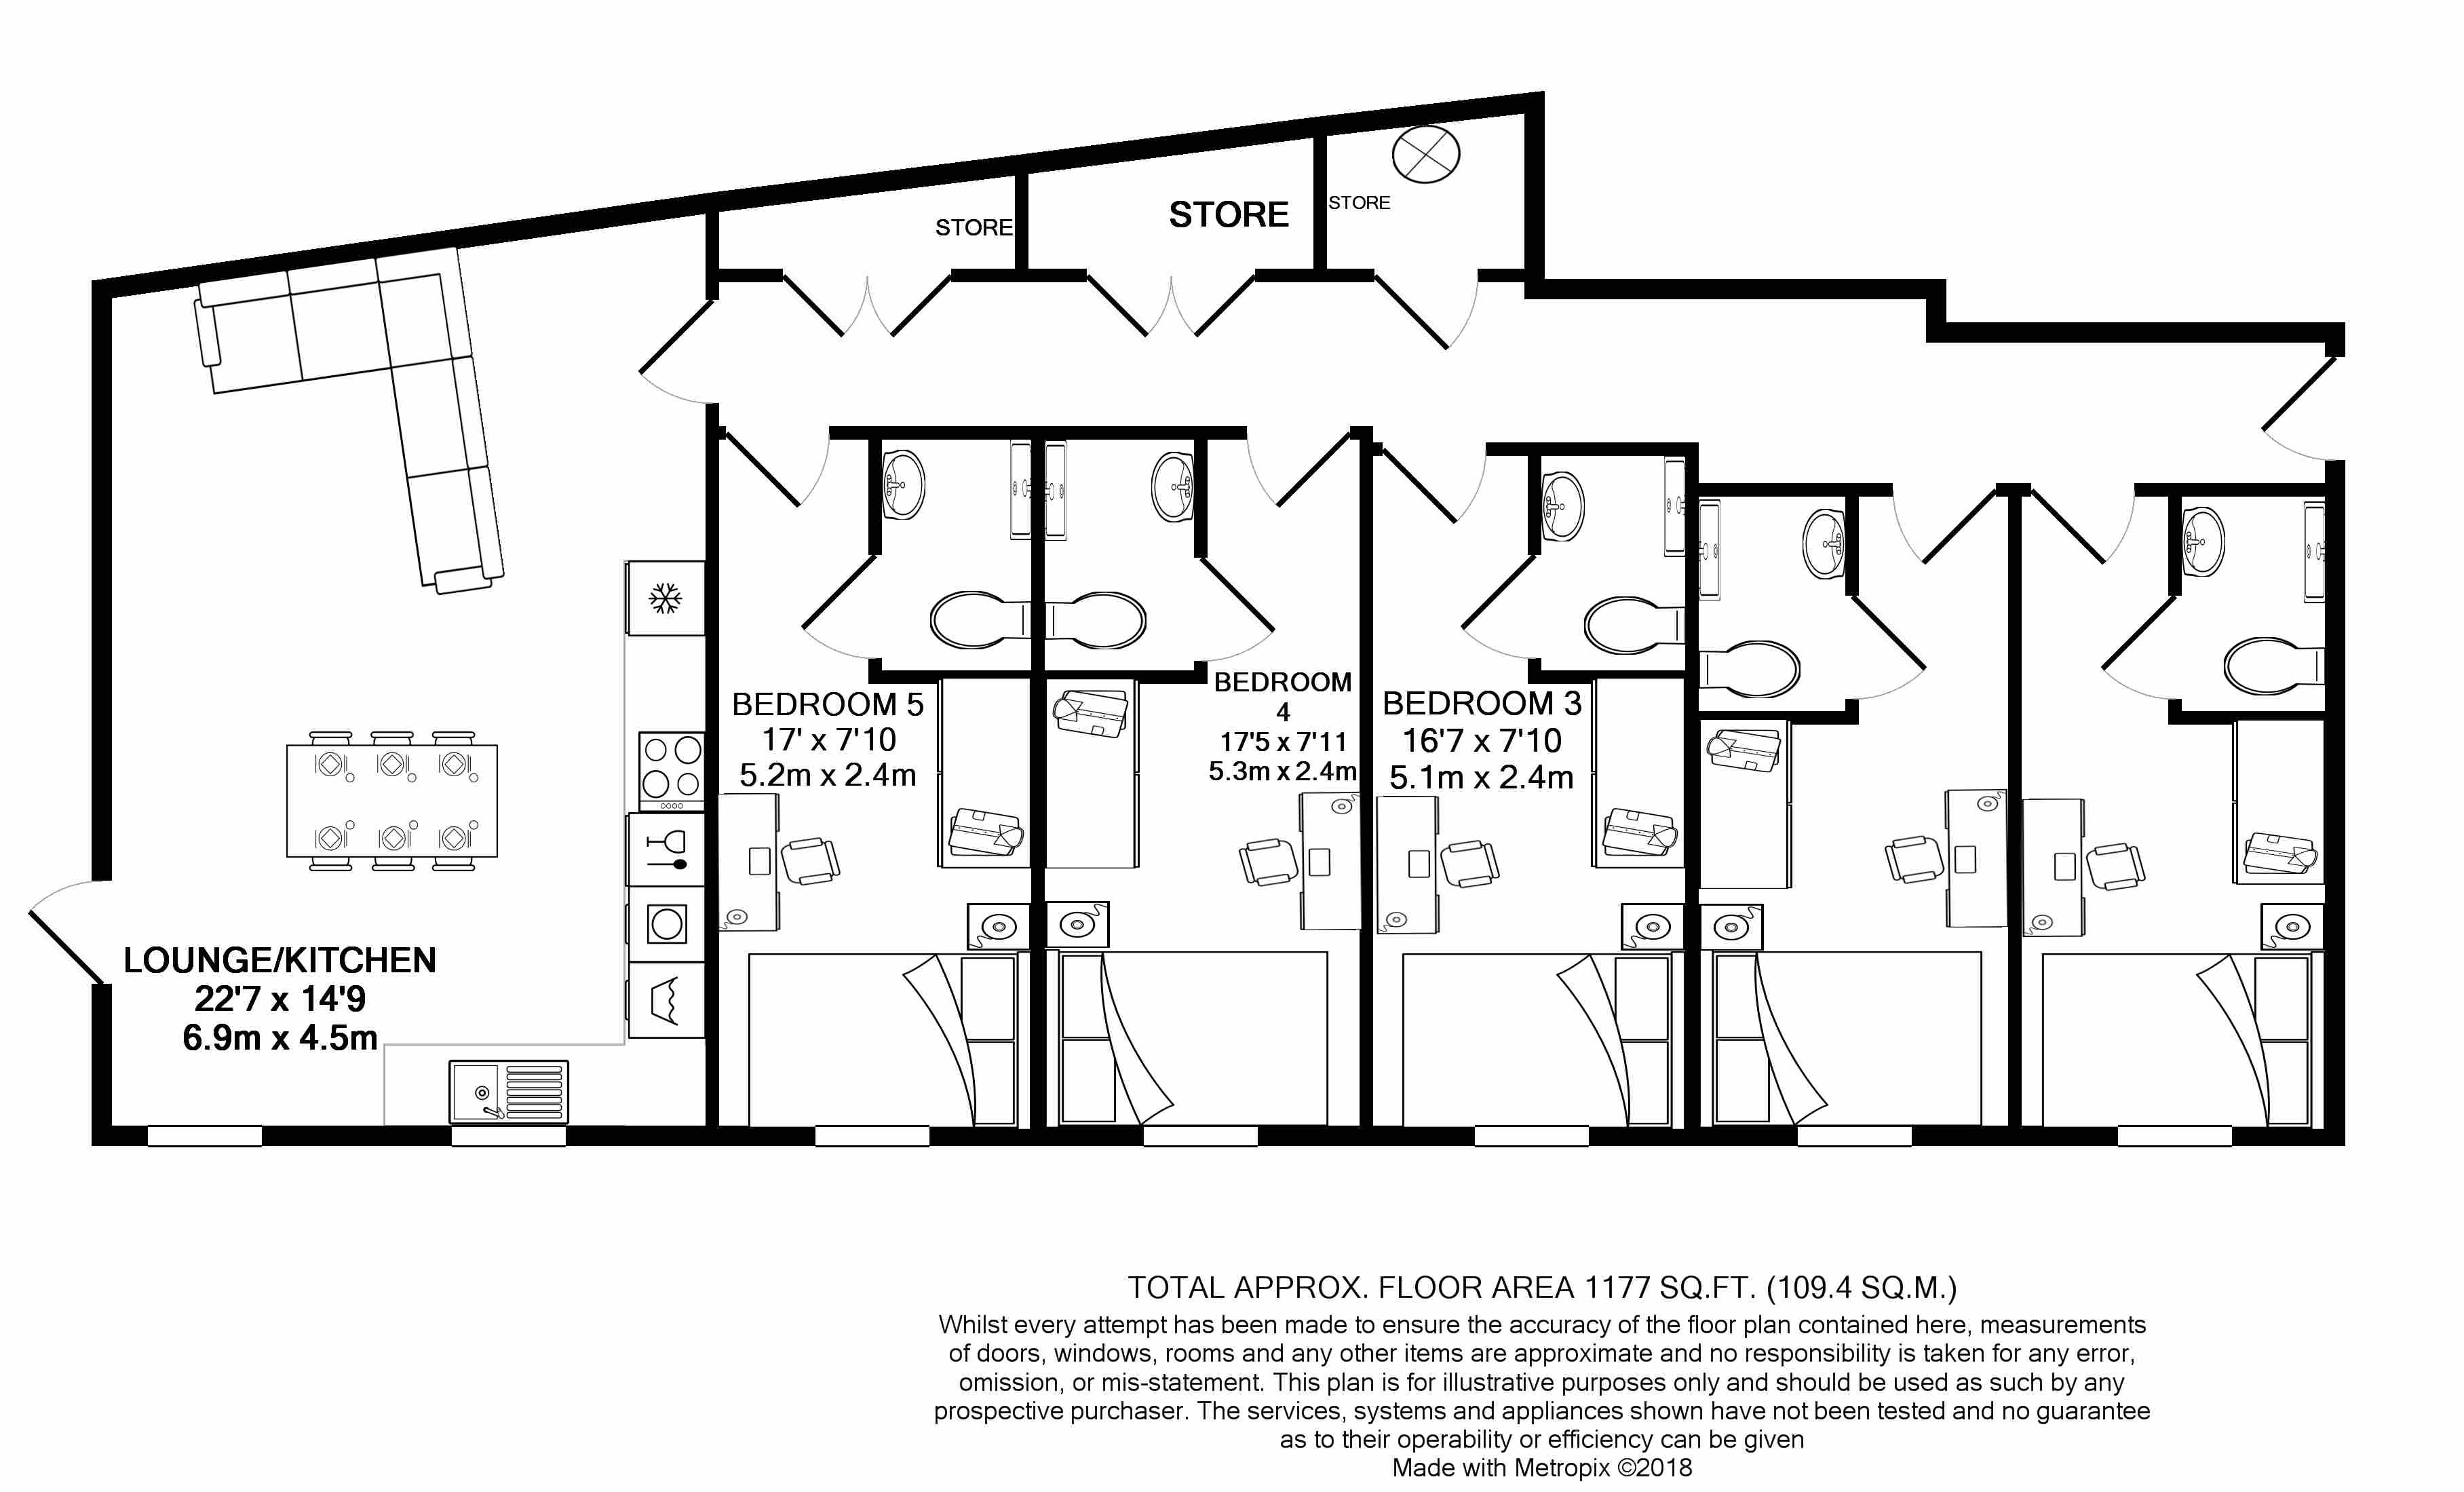room: (95, 296, 716, 1149), (718, 428, 1359, 1142), (1360, 447, 1691, 1144), (1693, 486, 2024, 1147), (2013, 486, 2339, 1147)
